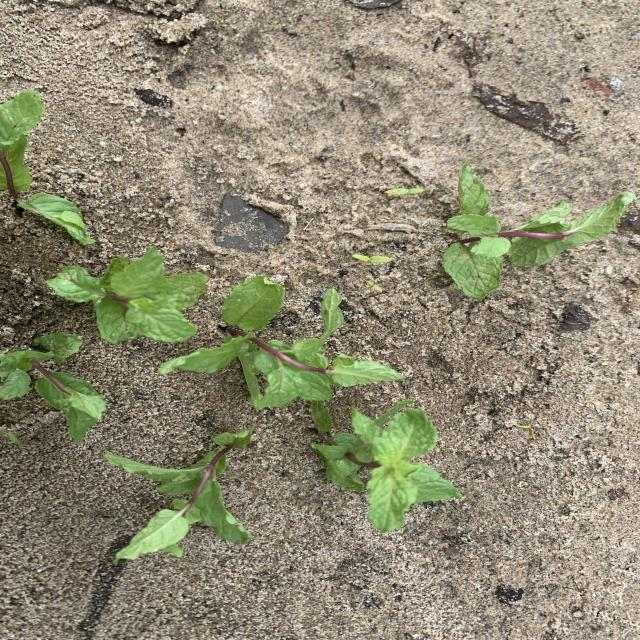crop: (159, 276, 400, 410), (443, 163, 636, 299), (312, 401, 462, 532), (105, 429, 252, 559), (46, 247, 209, 343), (0, 91, 95, 244), (0, 333, 106, 442)
weed: (514, 419, 536, 441), (0, 426, 24, 446), (366, 276, 392, 293), (384, 188, 424, 199), (351, 254, 394, 264)
